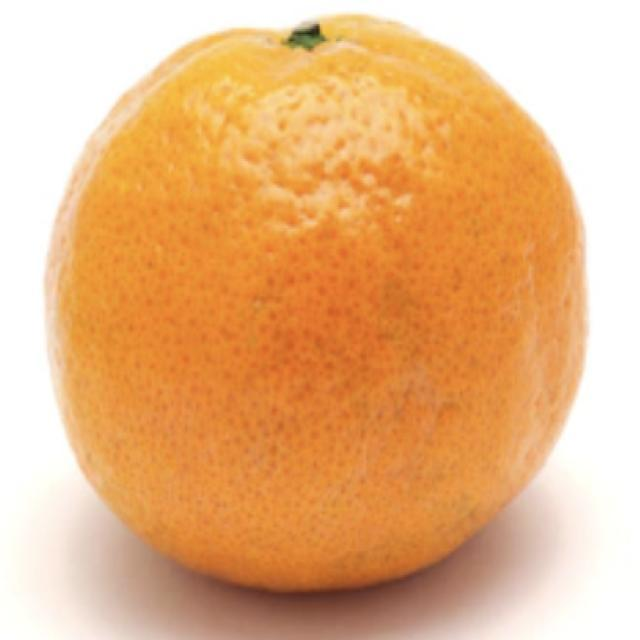Orange: (42, 12, 589, 595)
